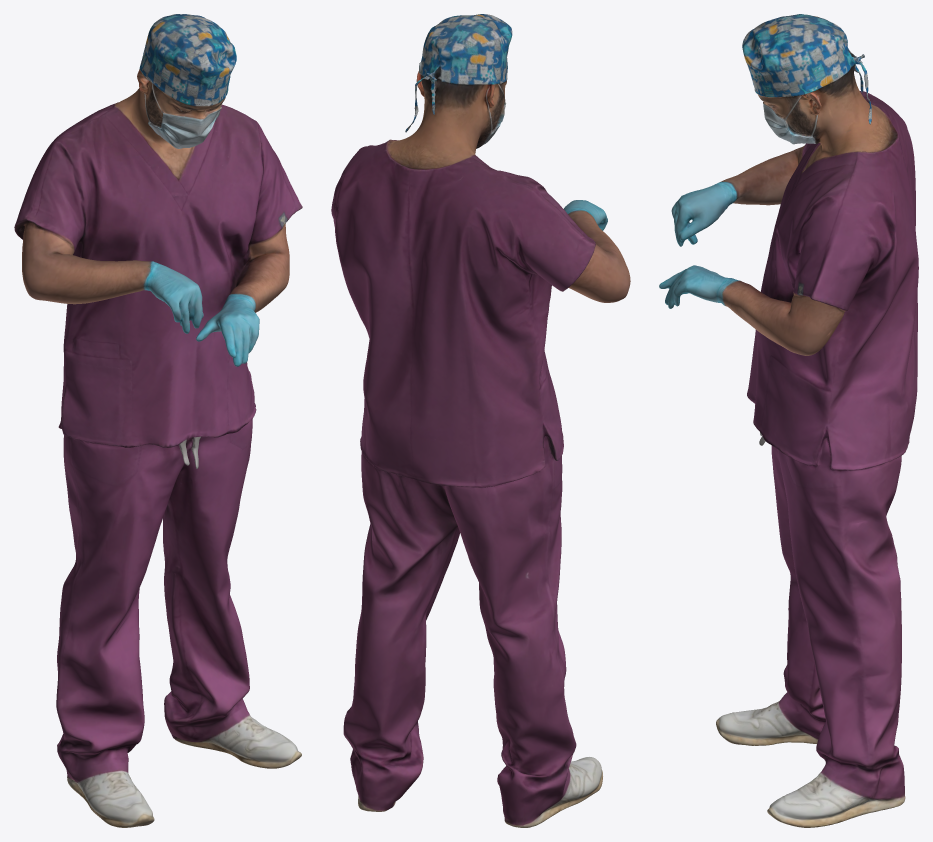
The model's file is doctor-compressed.glb.
The picture shows the model from 3 angles, left to right: view 1: azimuth 30°, elevation 25°; view 2: azimuth 150°, elevation 25°; view 3: azimuth 270°, elevation 25°; orthographic projection.
Parts seen in each view (by area): view 1: 032M_02SET_03SHOT; view 2: 032M_02SET_03SHOT; view 3: 032M_02SET_03SHOT.
Boxes of the visible parts, x1=… form: 032M_02SET_03SHOT: x1=14, y1=14, x2=302, y2=827; 032M_02SET_03SHOT: x1=331, y1=14, x2=630, y2=827; 032M_02SET_03SHOT: x1=659, y1=14, x2=918, y2=827.
Size of the model in its own units: 0.7032 by 1.82 by 0.565.
Materials: 1 (1 with a texture image).
